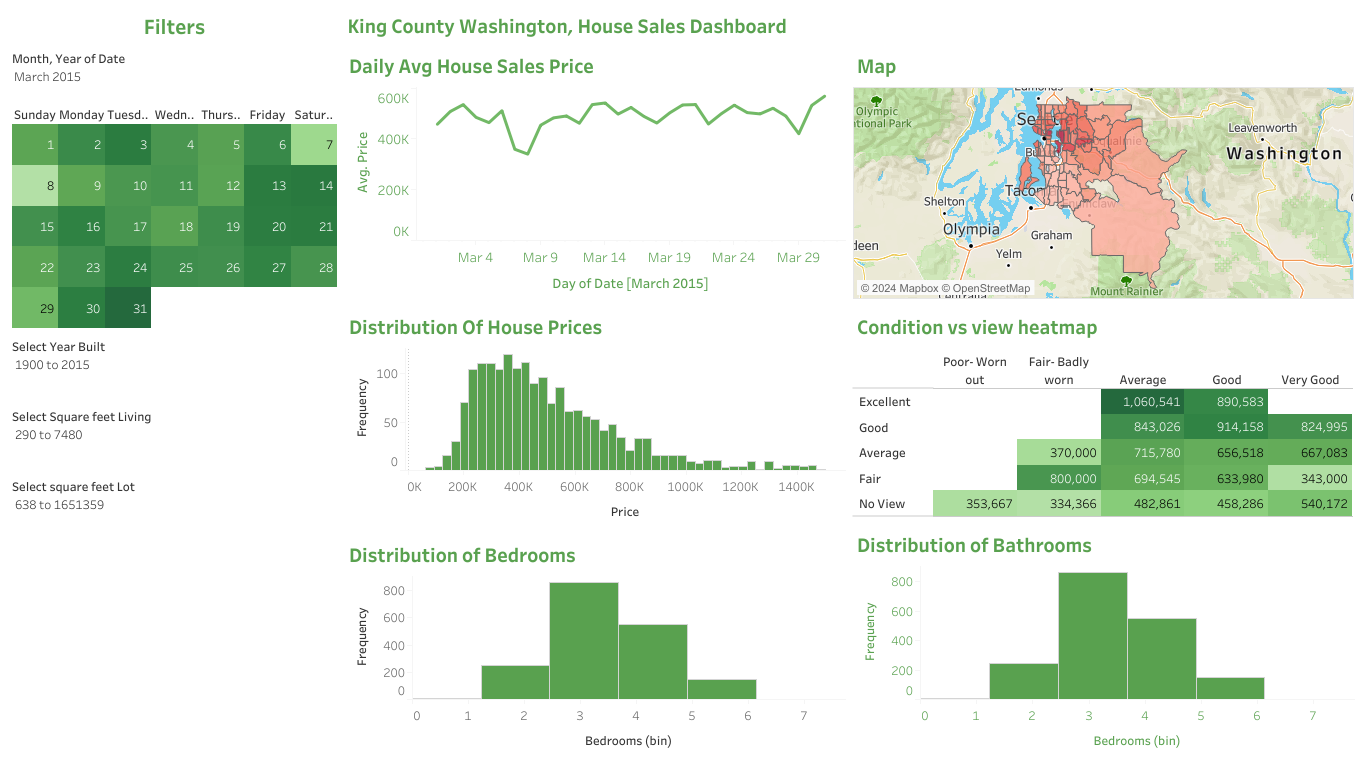

The page's visual inventory and layout, read from the dashboard file:
{"tool":"tableau","page":{"name":"King County Washington, House Sales Dashboard","canvas":[1366,768],"ordinal":0},"visuals":[{"type":"text","box":[8,8,333,36]},{"type":"text","box":[341,8,508,34]},{"type":"text","box":[849,8,509,34]},{"type":"worksheet","title":"Line Chart","mark":"Line","rows":["price"],"cols":["date"],"box":[341,42,508,261]},{"type":"worksheet","title":"Map","mark":"Automatic","box":[849,42,509,261]},{"type":"filter","title":"Worksheet calendar","param":"[federated.0xevr2g0zzyxtd10m2gr609yczr6].[my:date:ok]","box":[8,44,333,56]},{"type":"worksheet","title":"Worksheet calendar","mark":"Square","rows":["date"],"cols":["date"],"box":[8,100,333,232]},{"type":"worksheet","title":"House Price Histogram","mark":"Automatic","rows":["price"],"cols":["Price (bin)"],"box":[341,303,508,228.5]},{"type":"worksheet","title":"Heatmap","mark":"Square","rows":["view"],"cols":["condition"],"box":[849,303,509,218]},{"type":"filter","title":"Worksheet calendar","param":"[federated.0xevr2g0zzyxtd10m2gr609yczr6].[none:yr_built:qk]","box":[8,332,333,70]},{"type":"filter","title":"Worksheet calendar","param":"[federated.0xevr2g0zzyxtd10m2gr609yczr6].[none:sqft_living:qk]","box":[8,402,333,70]},{"type":"filter","title":"Worksheet calendar","param":"[federated.0xevr2g0zzyxtd10m2gr609yczr6].[none:sqft_lot:qk]","box":[8,472,333,70]},{"type":"worksheet","title":"Histogram of bathrooms","mark":"Automatic","rows":["bedrooms"],"cols":["Bedrooms (bin)"],"box":[849,521,509,239]},{"type":"worksheet","title":"Histogram of bedrooms","mark":"Automatic","rows":["bedrooms"],"cols":["Bedrooms (bin)"],"box":[341,531.5,508,228.5]}]}

Visuals, with their boxes in screenshot pixels (x1, y1, x2, y2), scaled from the page's 1366x768 canvas onto the 1366x768 screenshot:
text: [8,8,341,44]
text: [341,8,849,42]
text: [849,8,1358,42]
"Line Chart" worksheet (Line marks): [341,42,849,303]
"Map" worksheet: [849,42,1358,303]
"Worksheet calendar" filter: [8,44,341,100]
"Worksheet calendar" worksheet (Square marks): [8,100,341,332]
"House Price Histogram" worksheet: [341,303,849,532]
"Heatmap" worksheet (Square marks): [849,303,1358,521]
"Worksheet calendar" filter: [8,332,341,402]
"Worksheet calendar" filter: [8,402,341,472]
"Worksheet calendar" filter: [8,472,341,542]
"Histogram of bathrooms" worksheet: [849,521,1358,760]
"Histogram of bedrooms" worksheet: [341,532,849,760]
